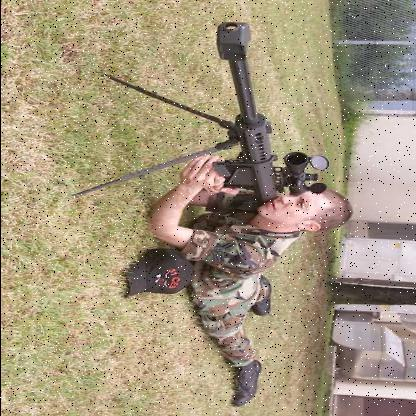rifle: (181, 18, 344, 214)
